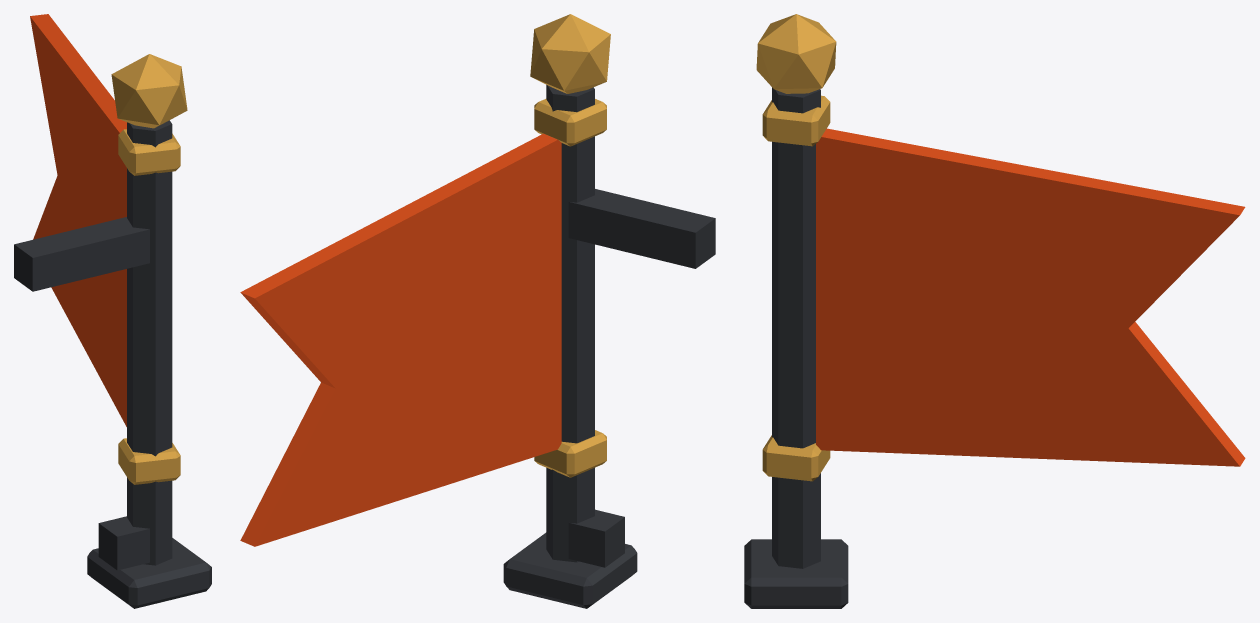
The model's file is FlameKit7.obj.
3 views of the same model, side by side, from view 1: azimuth 30°, elevation 25°; view 2: azimuth 150°, elevation 25°; view 3: azimuth 270°, elevation 25° (orthographic). The views are drawn at different scales.
Visible parts, largest first — view 1: FlameKit7; view 2: FlameKit7; view 3: FlameKit7.
Boxes of the visible parts, box(x1,y1,x2,y2) form: FlameKit7: box(14, 14, 211, 608); FlameKit7: box(240, 14, 715, 608); FlameKit7: box(744, 14, 1245, 608).
Bounding box in the file's own units: 0.2488 × 0.55 × 0.4337.
